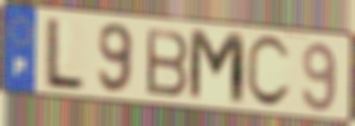9: (96, 21, 136, 96), (299, 39, 339, 114)
B: (144, 26, 192, 100)
C: (244, 33, 293, 111)
L: (40, 15, 89, 94)
M: (186, 26, 248, 109)
